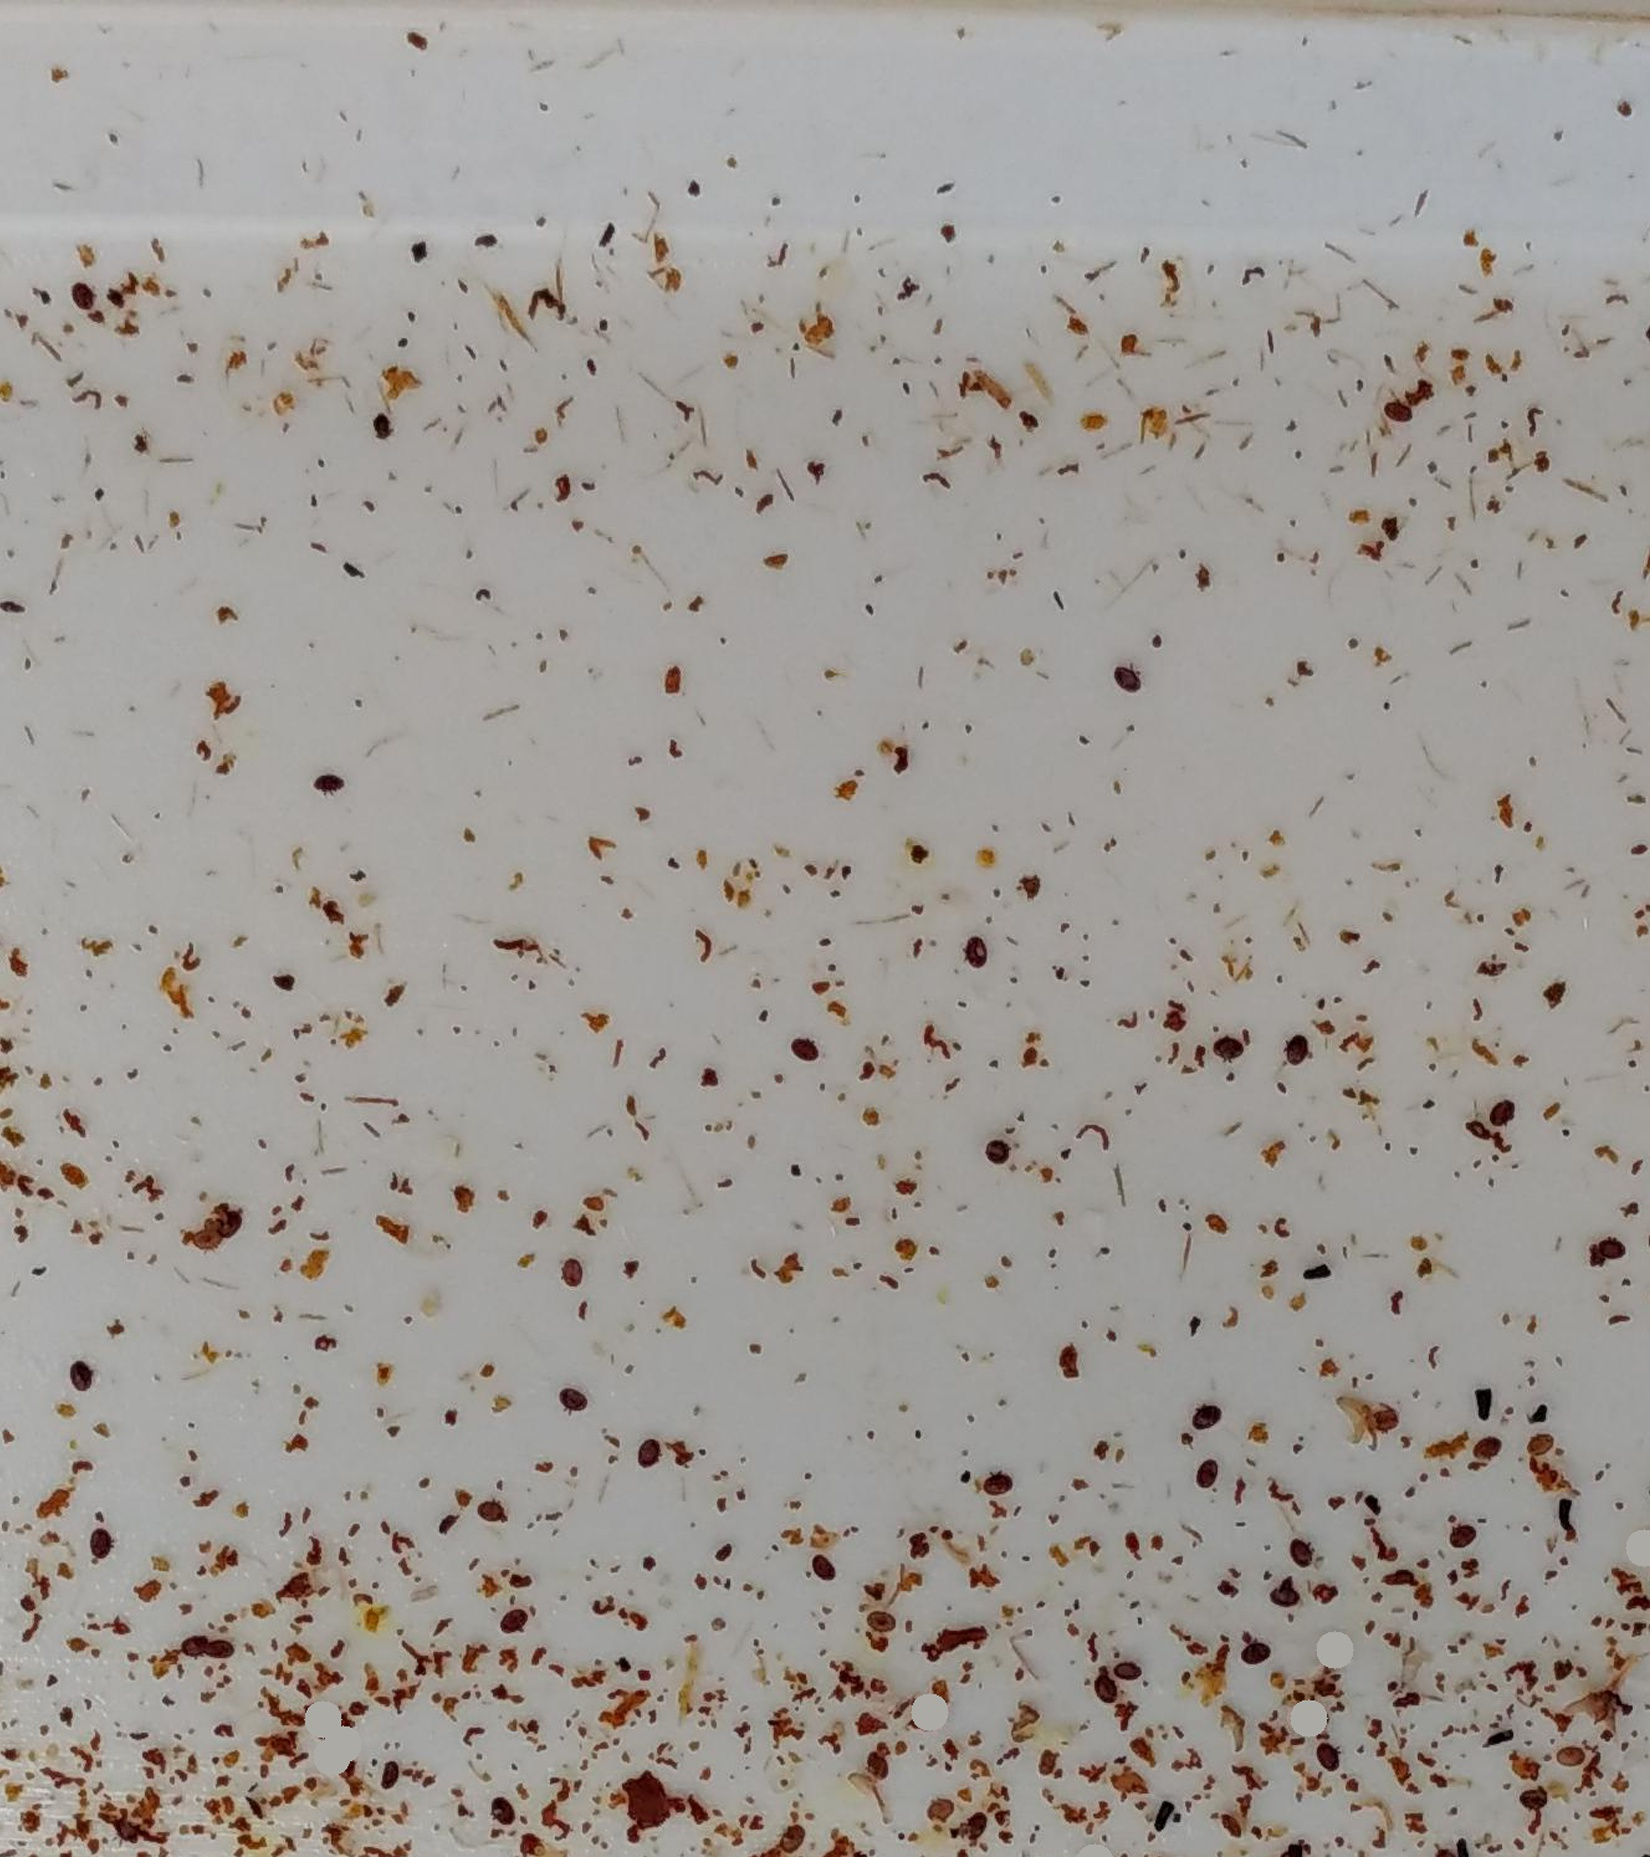Varroa: (100, 1812, 143, 1854), (1368, 1403, 1402, 1433), (210, 1206, 240, 1237), (1559, 1741, 1589, 1773), (1113, 1656, 1140, 1690), (556, 1260, 585, 1290), (374, 1757, 405, 1785), (307, 772, 338, 801), (567, 1389, 597, 1417), (1441, 1518, 1472, 1546), (865, 1750, 892, 1782), (925, 1795, 952, 1827), (1242, 1640, 1271, 1669), (1217, 1808, 1245, 1836), (185, 1634, 215, 1661), (479, 1497, 506, 1527), (1274, 1578, 1301, 1609), (1531, 1432, 1558, 1462), (1519, 1785, 1546, 1814), (1188, 1405, 1217, 1432), (866, 1609, 893, 1637), (1285, 1534, 1312, 1562), (1589, 1233, 1617, 1260), (499, 1610, 526, 1637), (1473, 1427, 1500, 1454), (639, 1440, 666, 1467), (1312, 1741, 1339, 1768), (65, 1357, 91, 1386), (1118, 655, 1144, 683), (1091, 1672, 1120, 1698), (983, 1470, 1010, 1495), (812, 1553, 839, 1578), (984, 1139, 1010, 1164), (489, 1793, 514, 1819), (1193, 1457, 1218, 1483), (793, 1034, 817, 1059), (89, 1527, 113, 1551), (964, 1811, 984, 1835), (968, 940, 991, 960), (80, 283, 99, 307), (1222, 1035, 1244, 1054), (1496, 1101, 1516, 1120), (1397, 398, 1414, 420), (334, 1758, 352, 1781), (1287, 1037, 1303, 1061), (784, 1827, 804, 1844)
